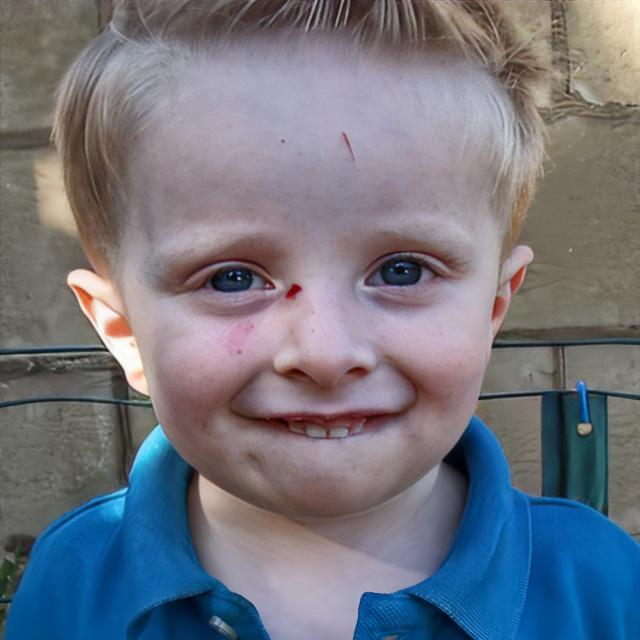happy: (128, 78, 496, 514)
